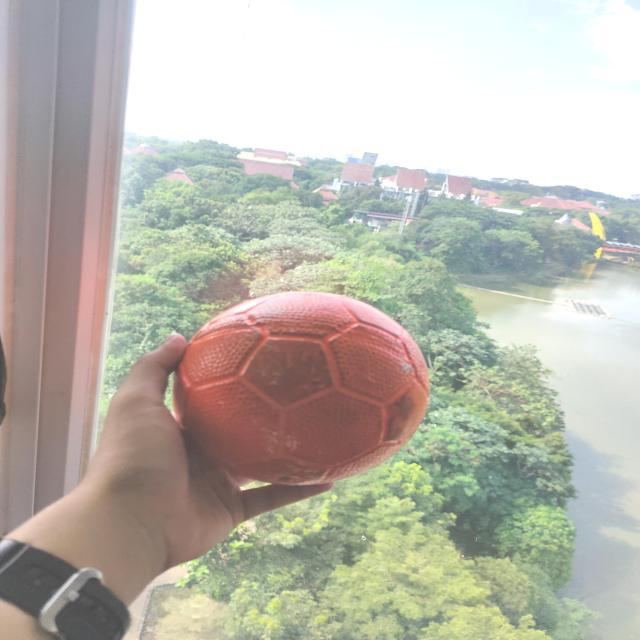bola: (141, 254, 467, 523)
